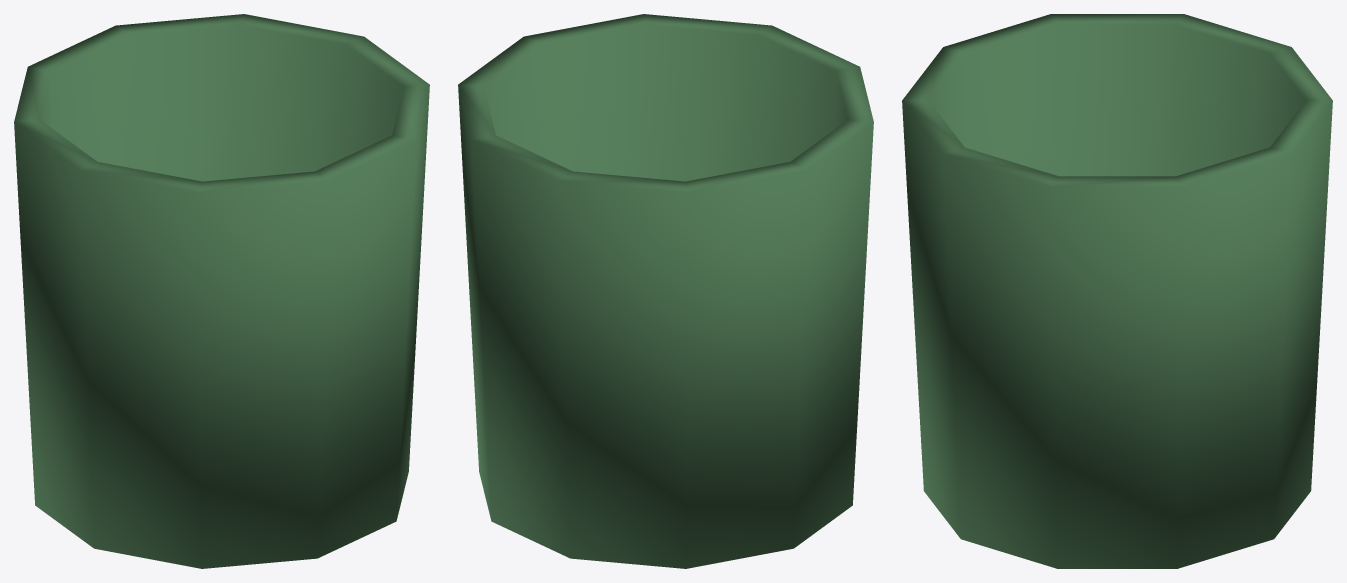
The model's file is garbagecan.fbx.
3 views of the same model, side by side, from view 1: azimuth 30°, elevation 25°; view 2: azimuth 150°, elevation 25°; view 3: azimuth 270°, elevation 25° (orthographic).
Visible parts, largest first — view 1: Cylinder.003; view 2: Cylinder.003; view 3: Cylinder.003.
Part boxes in pixels (x1,y1,x2,y2): Cylinder.003: (14,14,429,568); Cylinder.003: (458,14,873,568); Cylinder.003: (902,14,1332,568).
Size of the model in its own units: 190 by 200 by 200.
